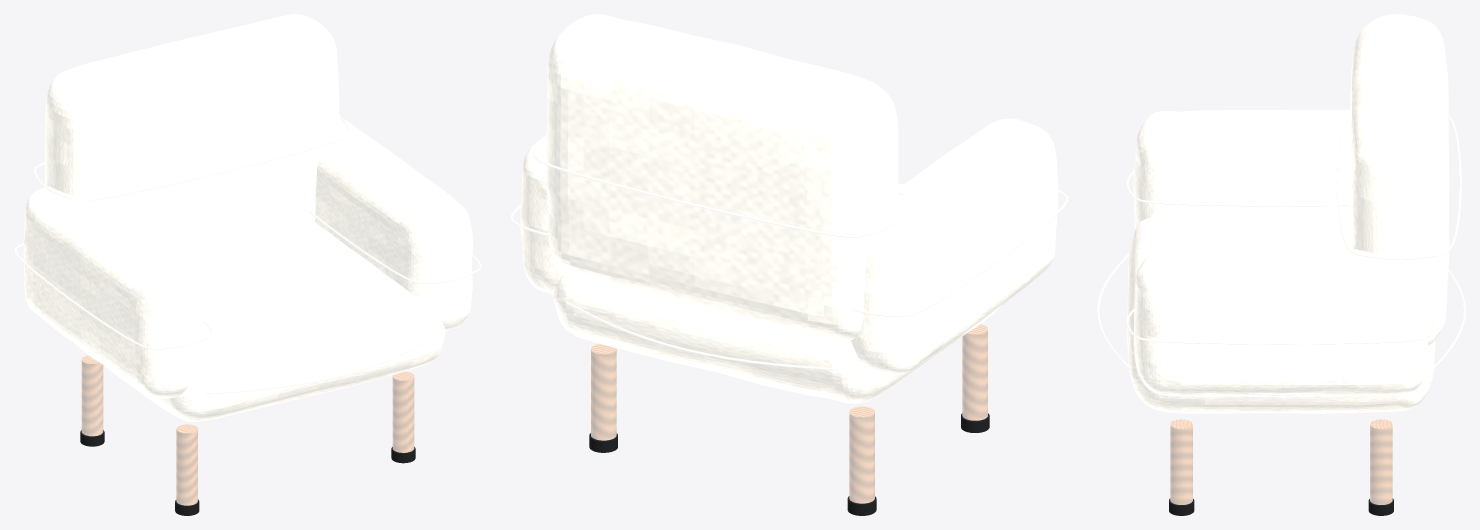
Rendered from ref07_04.glb.
3 renders of one model, left to right at view 1: azimuth 30°, elevation 25°; view 2: azimuth 150°, elevation 25°; view 3: azimuth 270°, elevation 25°, orthographic. The views are drawn at different scales.
Visible parts, largest first — view 1: ref07_04; view 2: ref07_04; view 3: ref07_04.
Part boxes in pixels (x1,y1,x2,y2): ref07_04: [14, 14, 481, 515]; ref07_04: [510, 14, 1068, 515]; ref07_04: [1097, 14, 1465, 515].
Bounding box in the file's own units: 0.9449 × 0.9341 × 0.8127.
3 materials, 2 textured.
